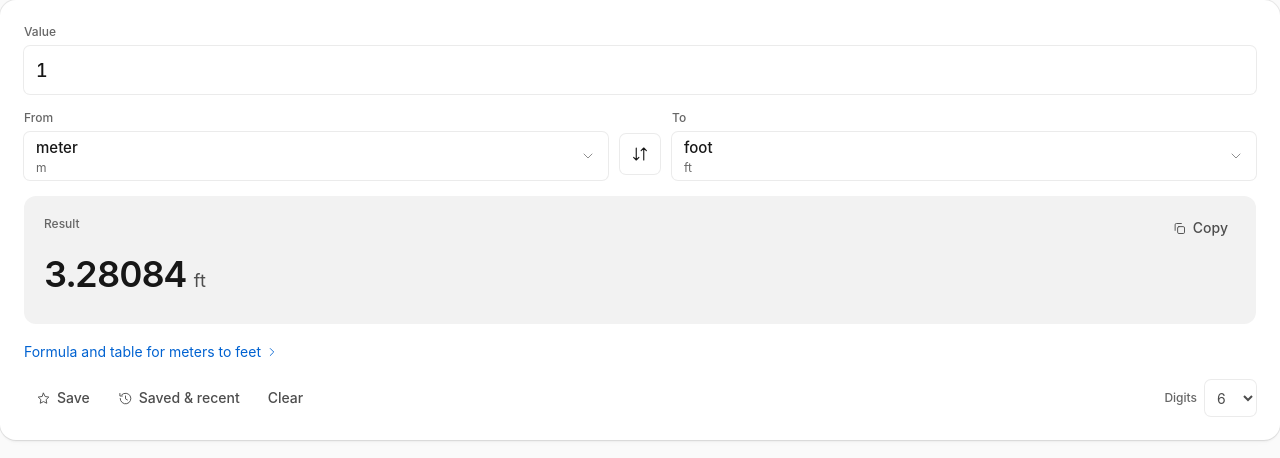
Test: copy › copies the plain result and confirms it
Click the button with aria-label "copy result" at (1200, 228), box [1160,212,1240,244]
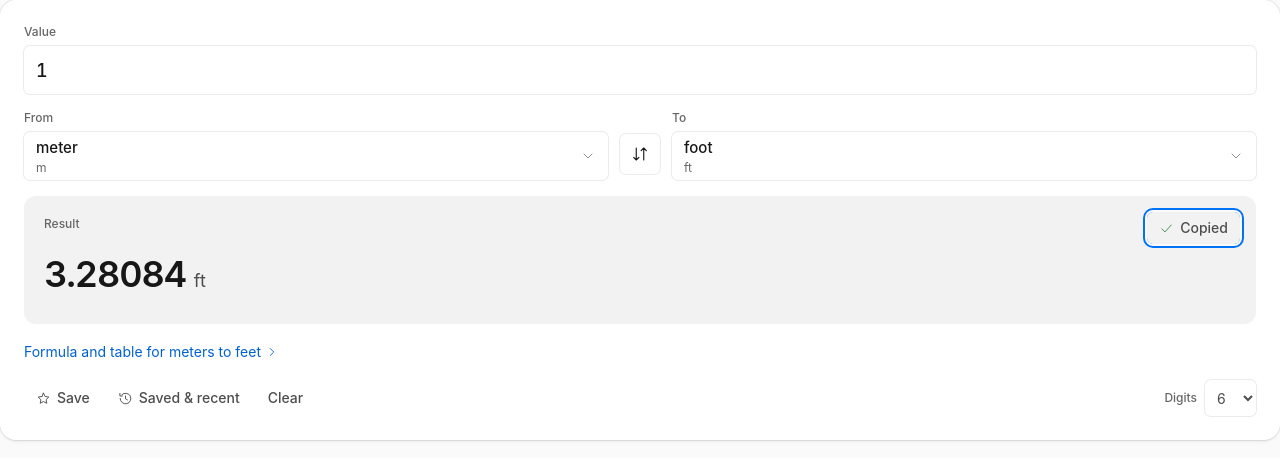
Expected: the button "Copied" is shown, [1147,212,1240,244]
